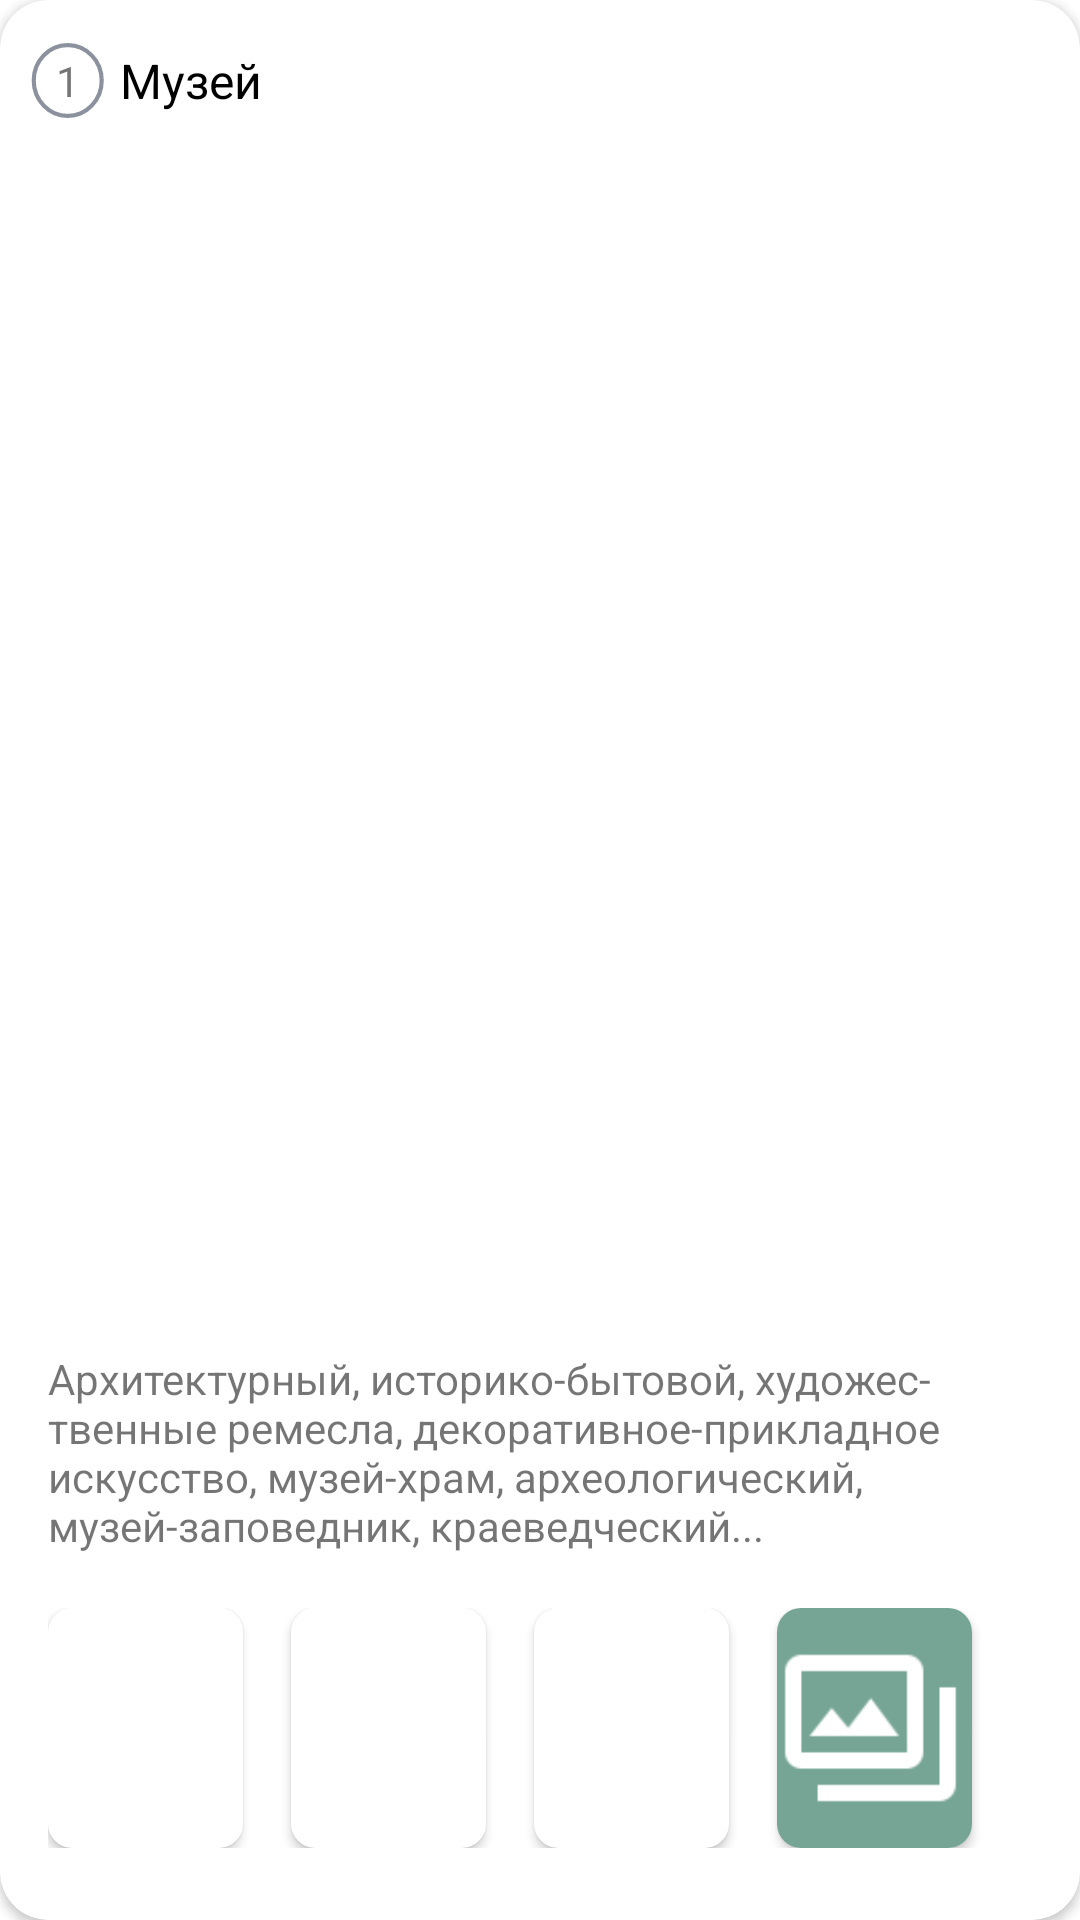

Point at icon controls on the screen. Image size 1080 x 1920, points as (x=x, y=y).
gallery: (x=874, y=1728)
